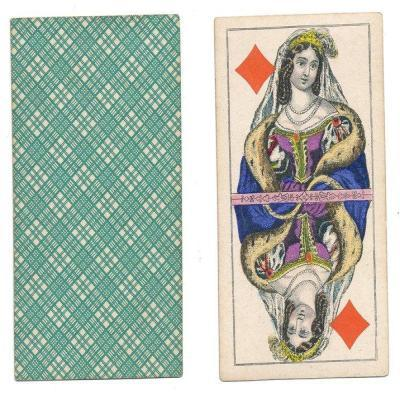graphics: (213, 12, 389, 383), (9, 14, 184, 382)
